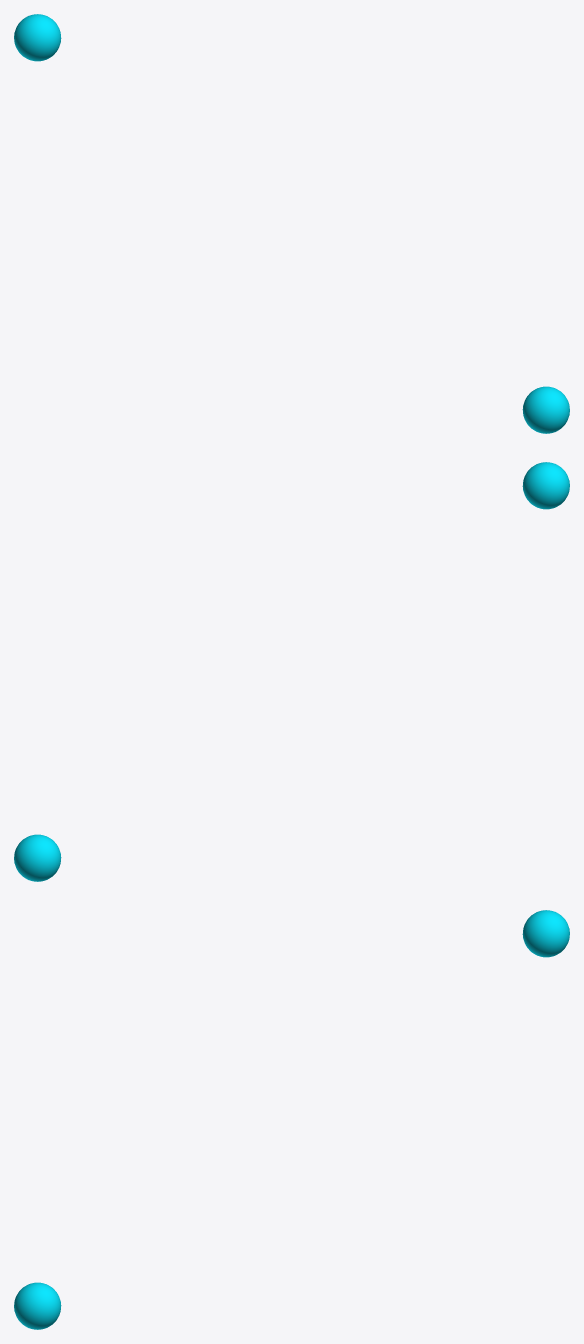
3 views of the same model, one above another, from view 1: azimuth 30°, elevation 25°; view 2: azimuth 150°, elevation 25°; view 3: azimuth 330°, elevation 25° (orthographic).
Parts seen in each view (by area): view 1: Sphere050; view 2: Sphere050; view 3: Sphere050.
Boxes of the visible parts, bbox=[...] form: Sphere050: bbox=[14, 14, 569, 433]; Sphere050: bbox=[14, 462, 569, 881]; Sphere050: bbox=[14, 910, 569, 1329].
Size of the model in its own units: 8.22 by 8.22 by 185.
